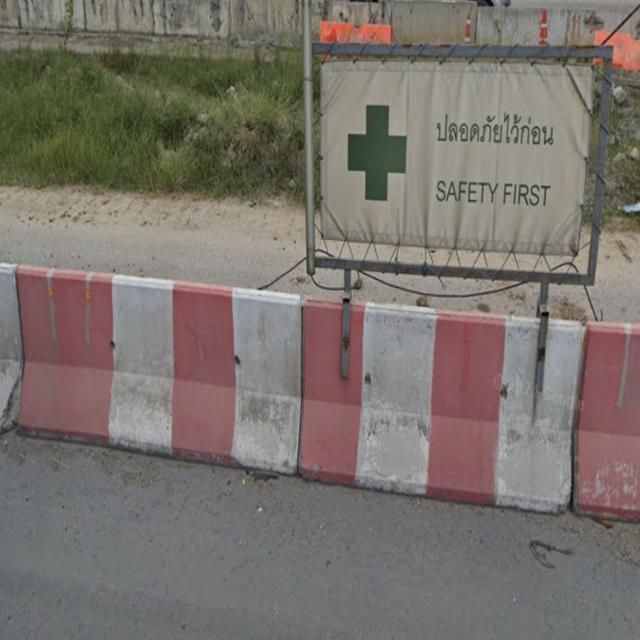fallen_object: (273, 276, 588, 526), (0, 247, 300, 501), (570, 303, 640, 540)
